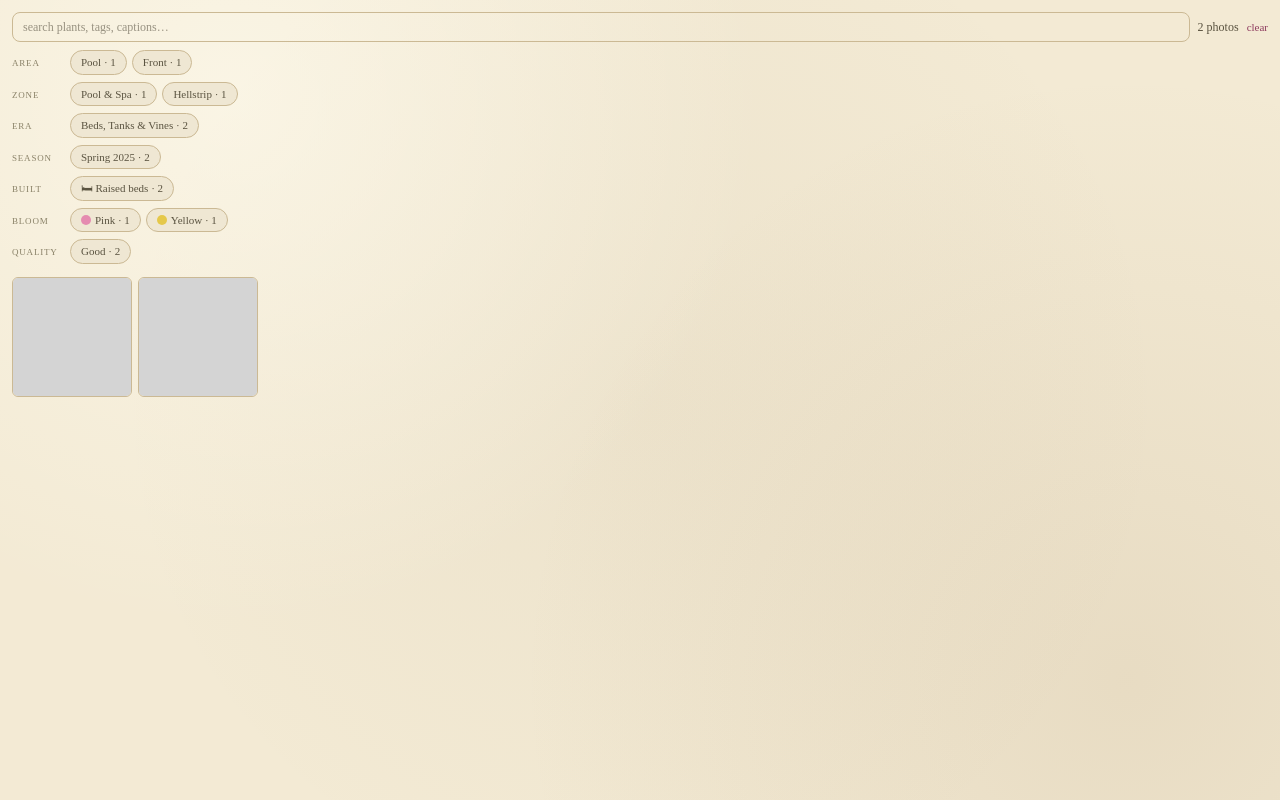
GalleryBrowser › filters by free-text search
This screenshot has width=1280, height=800.
Type "lantana" into the field with placeholder "search plants, tags, captions…". click: coordinates (601, 27)
box: [12,12,1190,42]
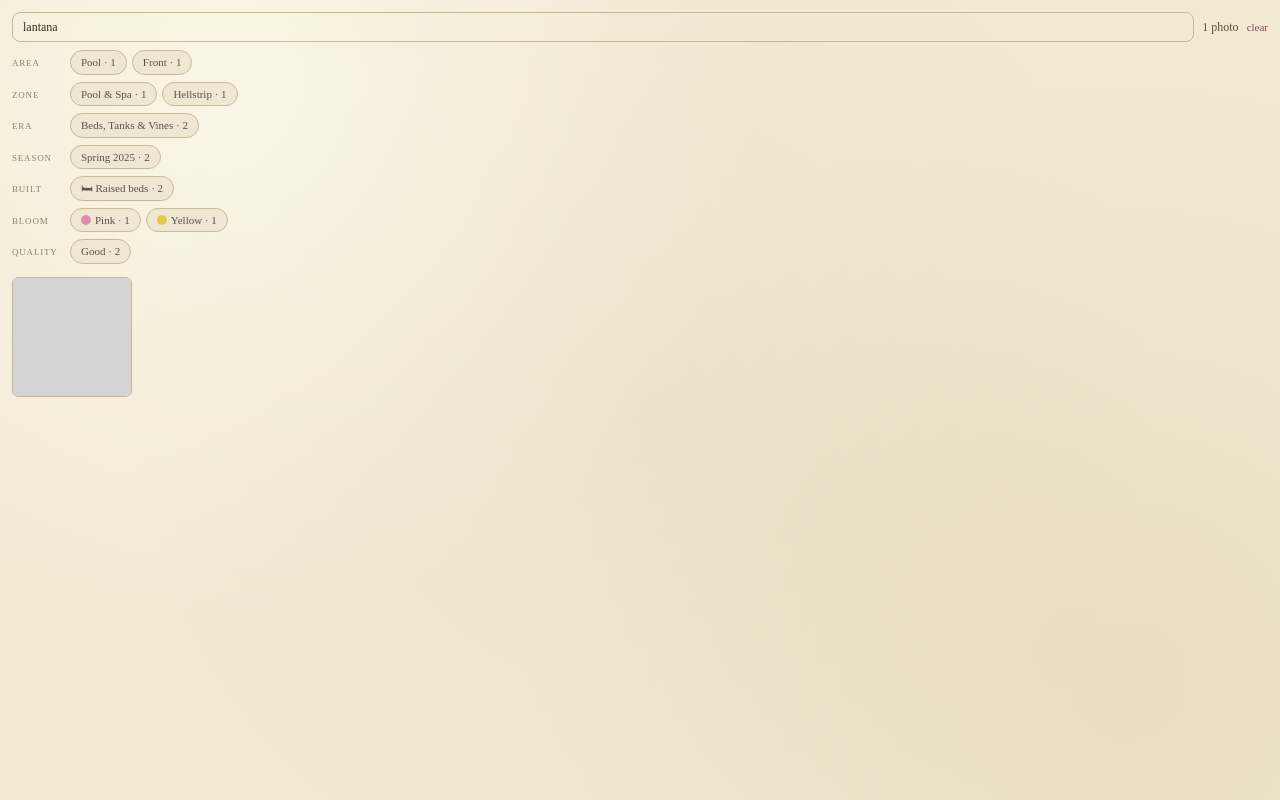
expect the text "1 photo" is shown: met, box [1202,18,1239,36]
